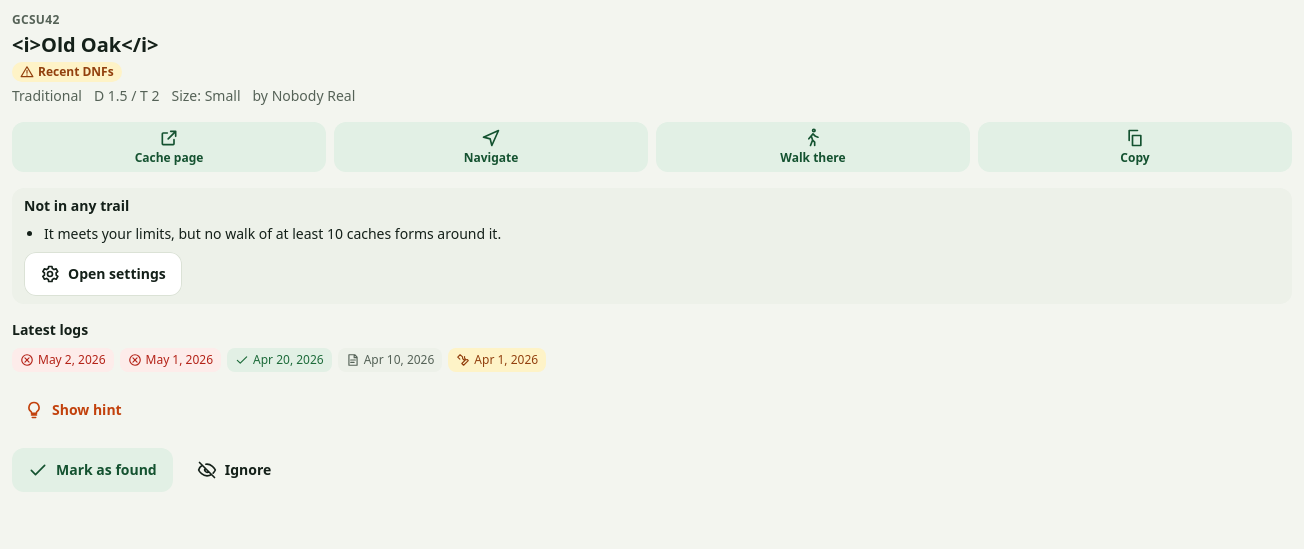
Test case: CacheDetails › keeps the hint hidden until asked, and hides it again
The width and height of the screenshot is (1304, 549).
Click the button "Show hint".
click(73, 410)  # box x1=12 y1=388 x2=134 y2=432
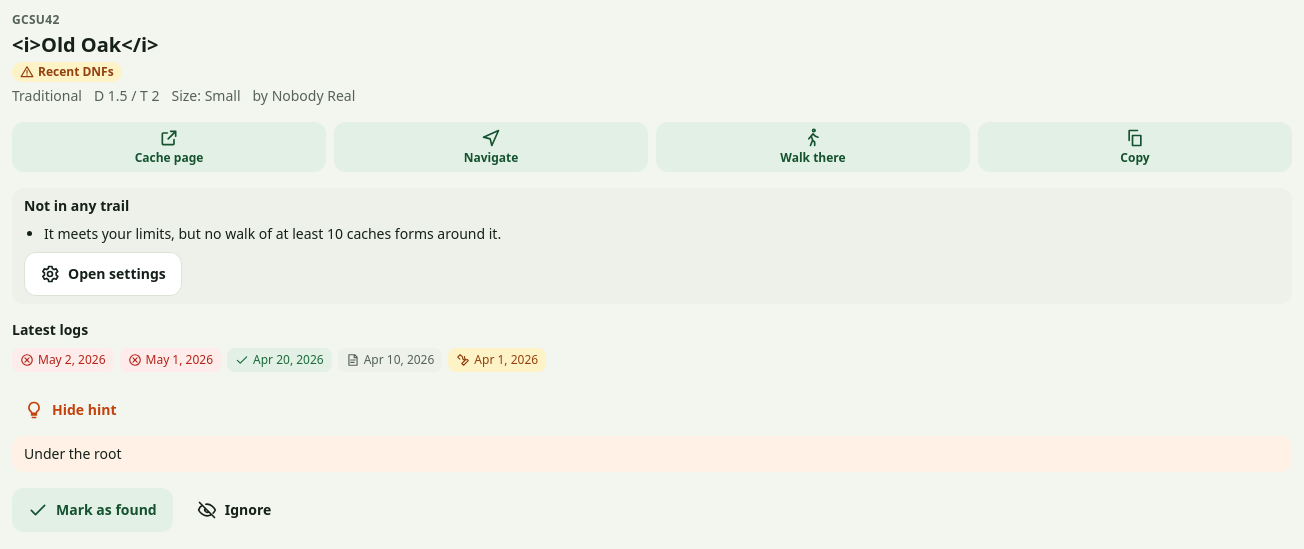
Now the text "Under the root" is shown, box x1=12 y1=436 x2=1292 y2=472
Now the text with test id "hint" reads "Under the root", box x1=24 y1=444 x2=122 y2=463
Click the button "Hide hint".
click(70, 410)  # box x1=12 y1=388 x2=128 y2=432
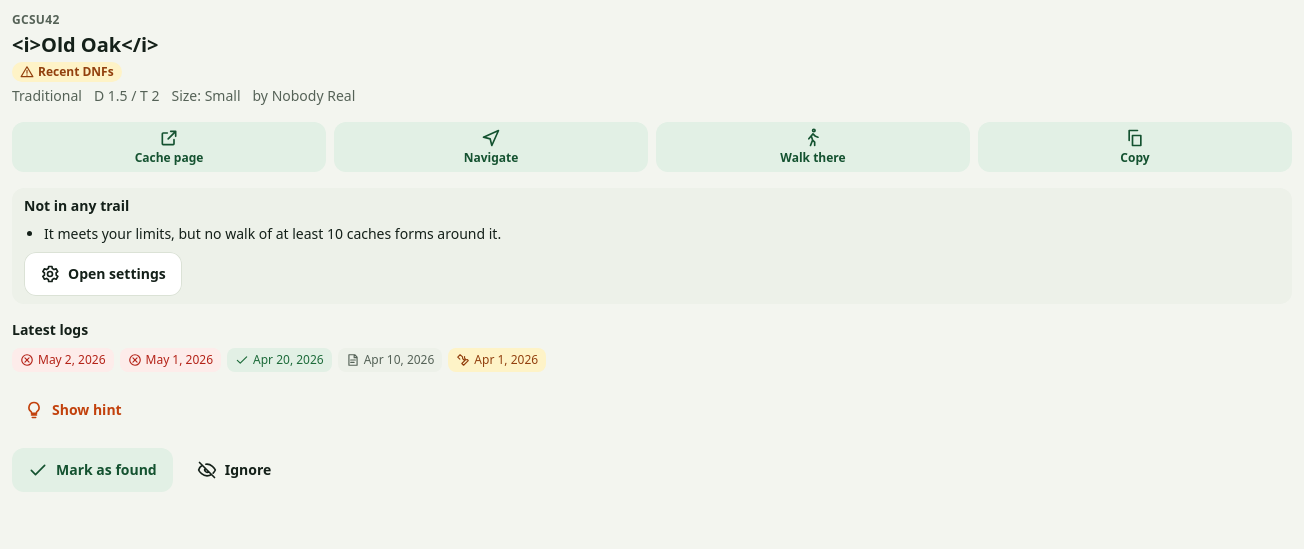
Now the text with test id "hint" is gone
